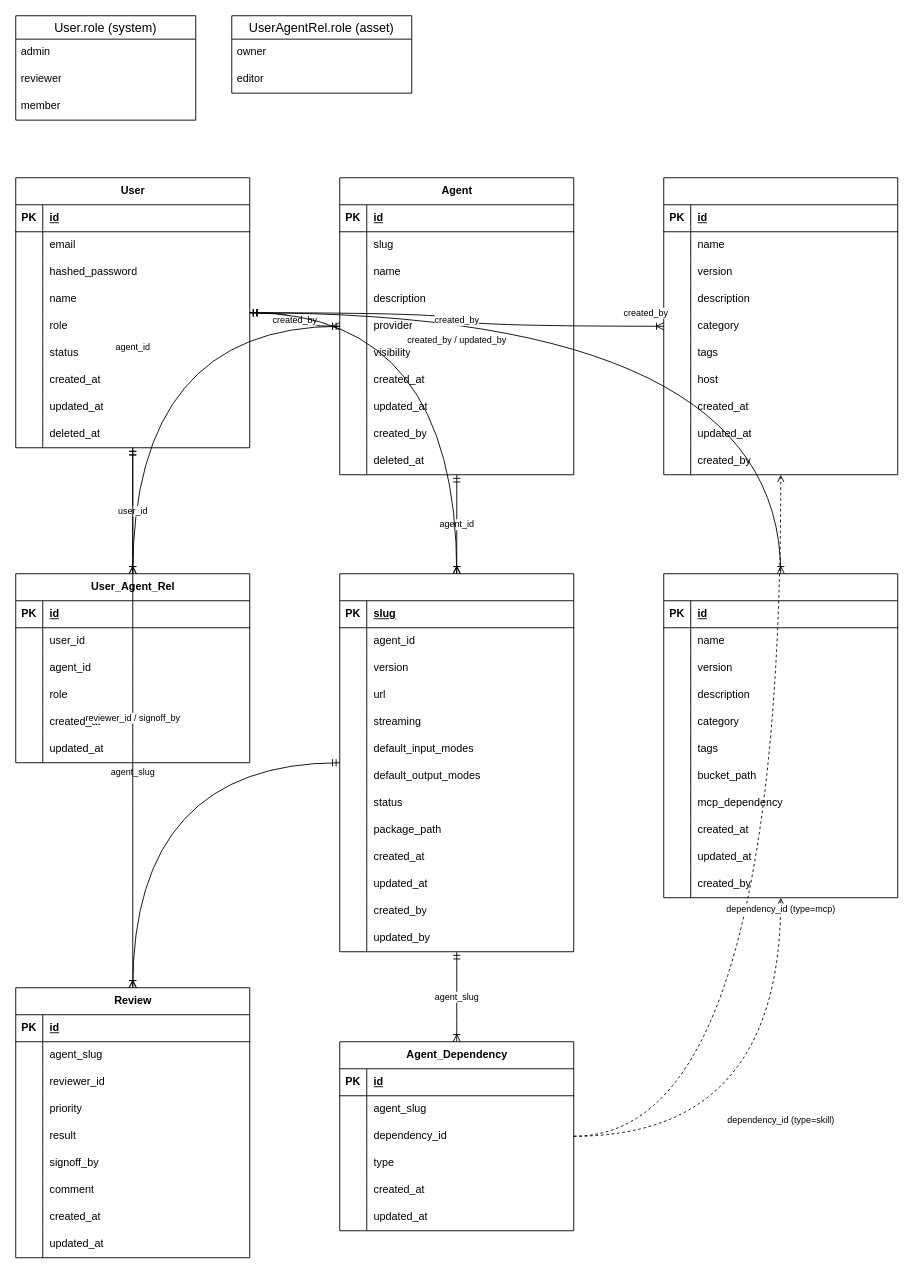
Image size: 914x1274. Some labels were removed from this diagram. Here are the shapes that lost their labels. From the top down, the box of each, then its label:
(663, 177, 898, 475): MCP
(663, 573, 898, 898): Skill
(339, 573, 574, 952): Agent_Version
